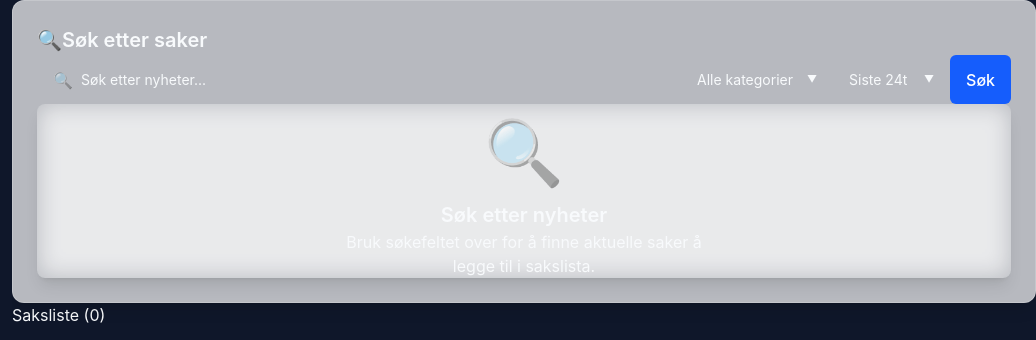
Test: Search to Saksliste Integration › search flow › searches and displays results
Note: Search for content
Type "video" into the field with placeholder "Søk etter nyheter..." at coordinates (359, 80), box [37,55,681,104]
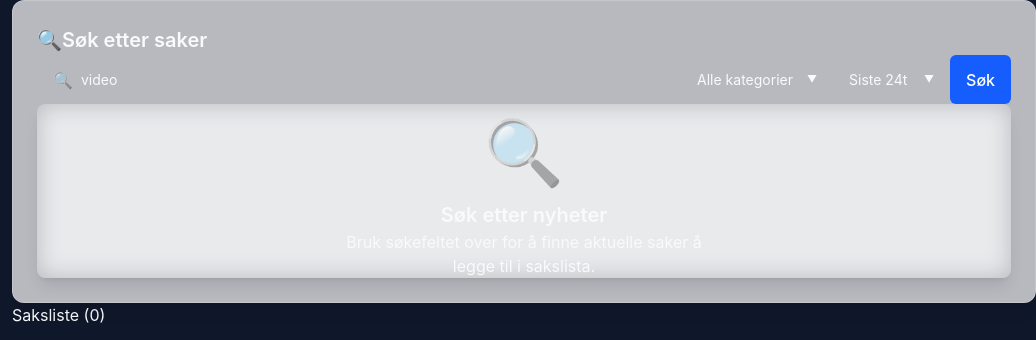
Click the button "Søk" at coordinates (980, 80), box [950,55,1011,104]
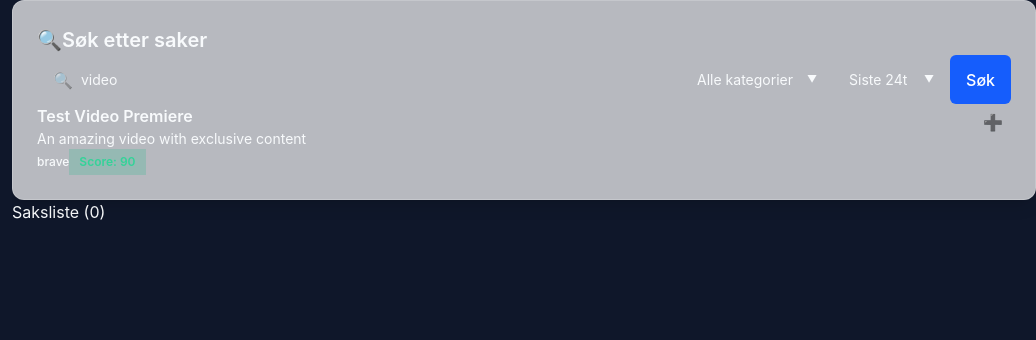
expect the heading "Test Video Premiere" is shown: met, box [37,106,193,126]
